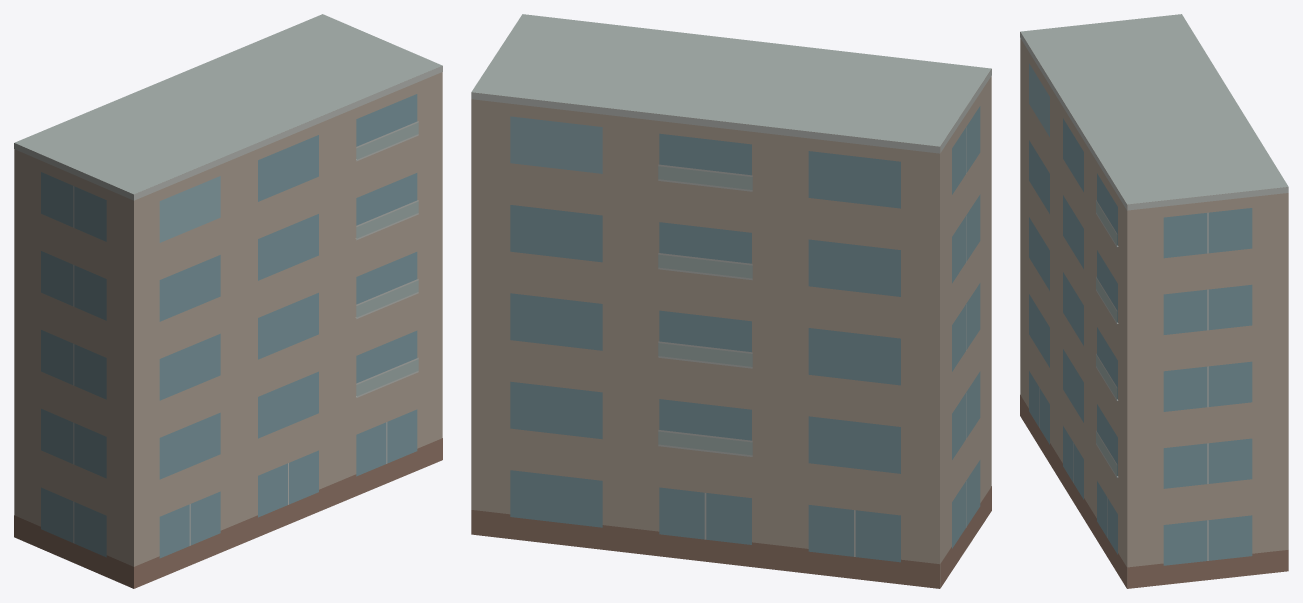
Rendered from survey-upis-32713722.glb.
3 renders of one model, left to right at view 1: azimuth 30°, elevation 25°; view 2: azimuth 150°, elevation 25°; view 3: azimuth 270°, elevation 25°, orthographic. The views are drawn at different scales.
Parts seen in each view (by area): view 1: survey-upis-32713722.tmp; view 2: survey-upis-32713722.tmp; view 3: survey-upis-32713722.tmp.
Boxes of the visible parts, bbox=[...] form: survey-upis-32713722.tmp: bbox=[14, 14, 442, 588]; survey-upis-32713722.tmp: bbox=[471, 14, 991, 588]; survey-upis-32713722.tmp: bbox=[1020, 14, 1288, 588].
Bounding box in the file's own units: 16.48 × 15.5 × 9.82.
